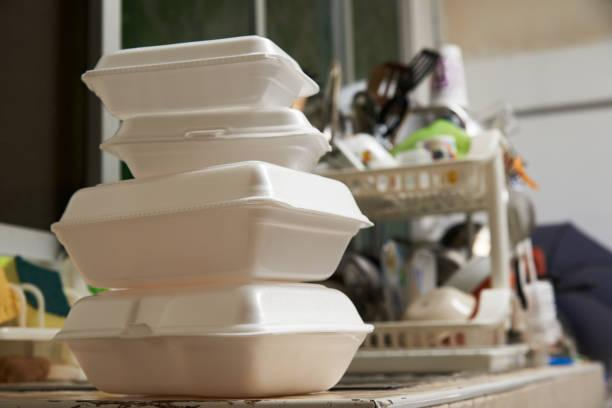HDPE: (48, 158, 376, 292), (48, 281, 377, 400), (79, 34, 322, 123), (97, 106, 334, 180)
